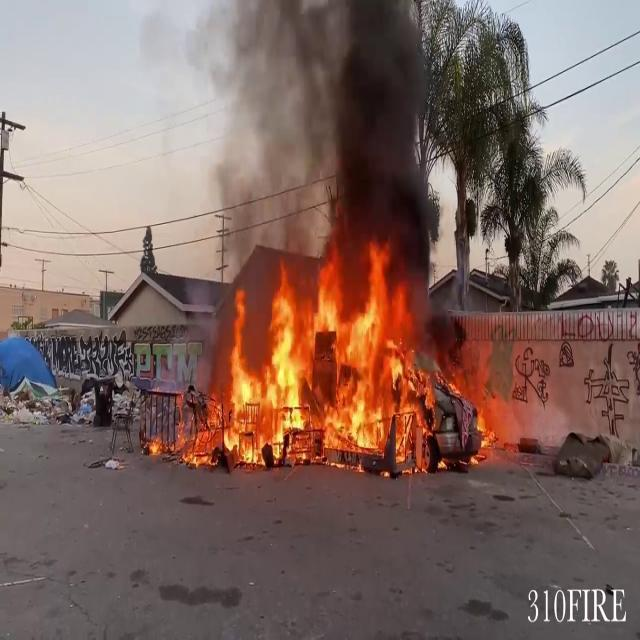Fire: (197, 246, 436, 469)
Smoke: (210, 0, 446, 263)
